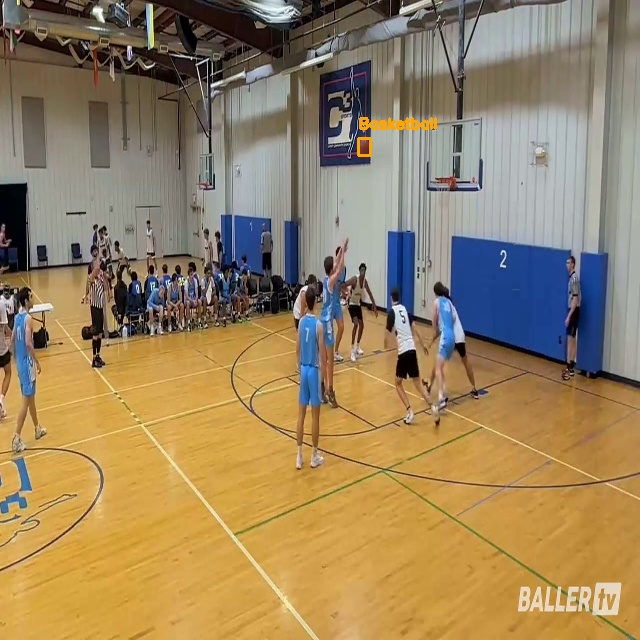Basketball: (358, 138, 370, 155)
